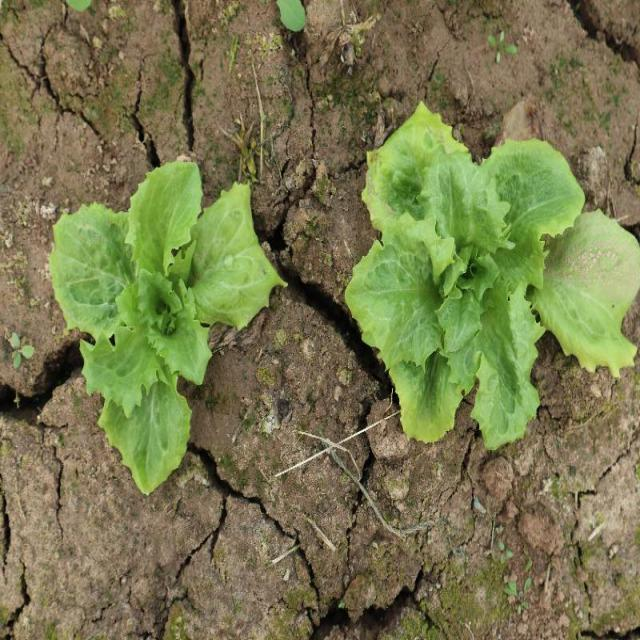crop: (346, 104, 640, 452), (48, 157, 287, 498)
